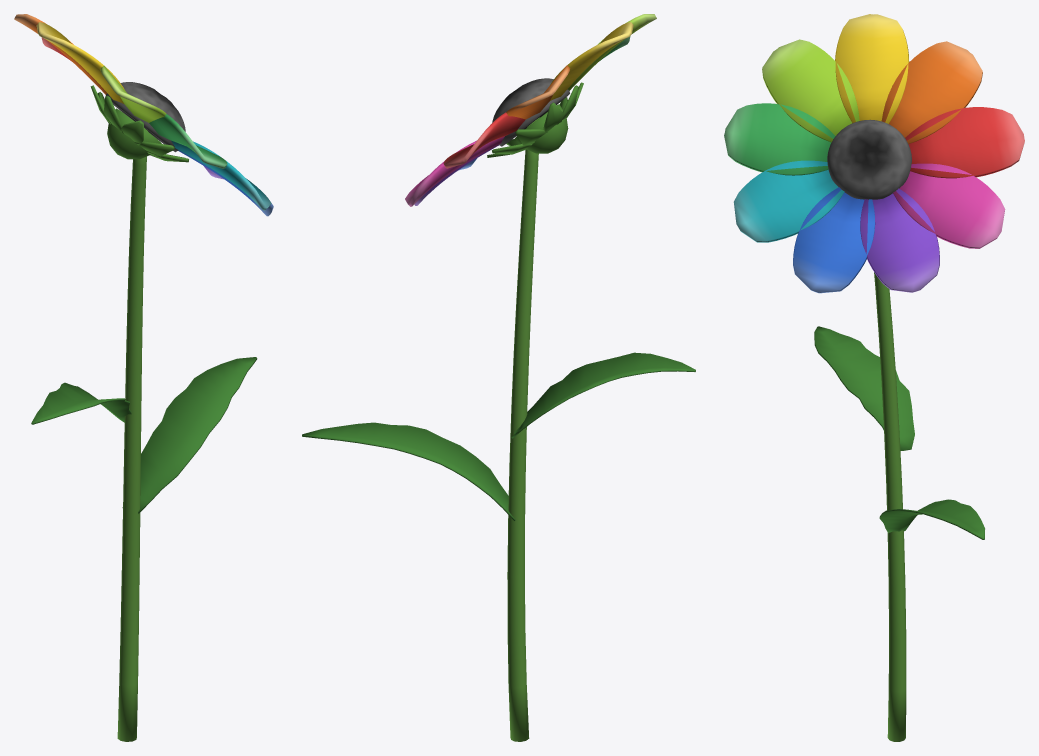
The model's file is pigment_flower_held.glb.
3 views of the same model, side by side, from view 1: azimuth 30°, elevation 25°; view 2: azimuth 150°, elevation 25°; view 3: azimuth 270°, elevation 25° (orthographic). The views are drawn at different scales.
Visible parts, largest first — view 1: PigmentFlowerHeld_Stem, PigmentFlowerHeld_Leaf0, PigmentFlowerHeld_Head_Petals, PigmentFlowerHeld_Head_Sepals, PigmentFlowerHeld_Leaf1, PigmentFlowerHeld_Head_Disc; view 2: PigmentFlowerHeld_Stem, PigmentFlowerHeld_Head_Petals, PigmentFlowerHeld_Leaf0, PigmentFlowerHeld_Leaf1, PigmentFlowerHeld_Head_Sepals, PigmentFlowerHeld_Head_Disc; view 3: PigmentFlowerHeld_Head_Petals, PigmentFlowerHeld_Stem, PigmentFlowerHeld_Head_Disc, PigmentFlowerHeld_Leaf1, PigmentFlowerHeld_Leaf0.
Part boxes in pixels (x1=…): PigmentFlowerHeld_Stem: x1=117, y1=128, x2=148, y2=741; PigmentFlowerHeld_Leaf0: x1=122, y1=357, x2=257, y2=513; PigmentFlowerHeld_Head_Petals: x1=14, y1=14, x2=273, y2=216; PigmentFlowerHeld_Head_Sepals: x1=90, y1=85, x2=188, y2=162; PigmentFlowerHeld_Leaf1: x1=31, y1=382, x2=131, y2=424; PigmentFlowerHeld_Head_Disc: x1=105, y1=82, x2=185, y2=152; PigmentFlowerHeld_Stem: x1=507, y1=117, x2=539, y2=741; PigmentFlowerHeld_Head_Petals: x1=405, y1=14, x2=656, y2=206; PigmentFlowerHeld_Leaf0: x1=302, y1=422, x2=515, y2=520; PigmentFlowerHeld_Leaf1: x1=511, y1=352, x2=695, y2=438; PigmentFlowerHeld_Head_Sepals: x1=487, y1=82, x2=583, y2=157; PigmentFlowerHeld_Head_Disc: x1=492, y1=78, x2=569, y2=146; PigmentFlowerHeld_Head_Petals: x1=724, y1=14, x2=1024, y2=293; PigmentFlowerHeld_Stem: x1=874, y1=272, x2=906, y2=741; PigmentFlowerHeld_Head_Disc: x1=827, y1=119, x2=911, y2=199; PigmentFlowerHeld_Leaf1: x1=814, y1=326, x2=914, y2=450; PigmentFlowerHeld_Leaf0: x1=879, y1=499, x2=984, y2=539.
Bounding box in the file's own units: 0.1474 × 0.3309 × 0.1326.
